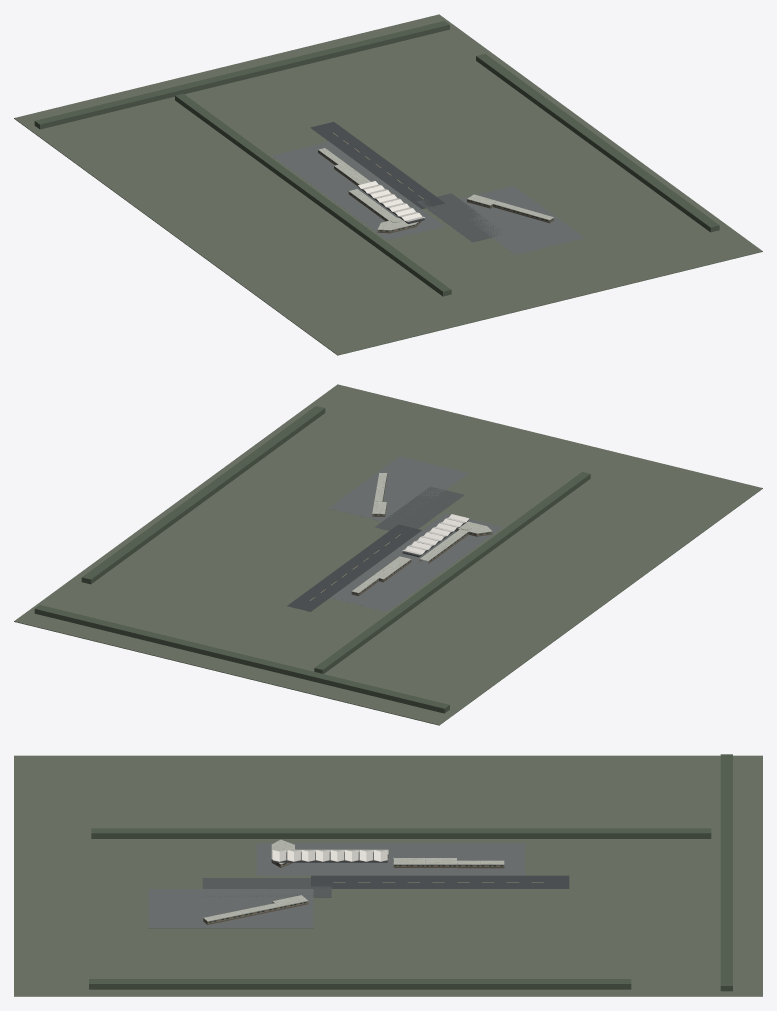
Rendered from dc9-memphis-legacy-departure.glb.
3 renders of one model, top to bottom at view 1: azimuth 30°, elevation 25°; view 2: azimuth 150°, elevation 25°; view 3: azimuth 270°, elevation 25°, orthographic. The views are drawn at different scales.
Parts seen in each view (by area): view 1: KMEM_FIELD, KMEM_TREELINE_NORTH, KMEM_TERMINAL_APRON, KMEM_RAMP, KMEM_TREELINE_WEST, KMEM_TREELINE_EAST, KMEM_RUNWAY_SURFACE, KMEM_TAXI_SURFACE, KMEM_TERMINAL_CANOPY, OBJ8_CONCOURSEB_RANGE_001, OBJ8_CONCOURSEB_2E_RANGE_001, OBJ8_CONCOURSEB_2_RANGE_001; view 2: KMEM_FIELD, KMEM_TREELINE_NORTH, KMEM_TERMINAL_APRON, KMEM_RAMP, KMEM_TREELINE_WEST, KMEM_TREELINE_EAST, KMEM_RUNWAY_SURFACE, KMEM_TAXI_SURFACE, KMEM_TERMINAL_CANOPY, OBJ8_CONCOURSEB_RANGE_001, OBJ8_CONCOURSEB_2_RANGE_001; view 3: KMEM_FIELD, KMEM_TREELINE_WEST, KMEM_TERMINAL_APRON, KMEM_TREELINE_EAST, KMEM_RAMP, KMEM_RUNWAY_SURFACE, KMEM_TREELINE_NORTH, KMEM_TAXI_SURFACE, KMEM_TERMINAL_CANOPY, OBJ8_CONCOURSEB_2_RANGE_001, OBJ8_CONCOURSEB_2E_RANGE_001, OBJ8_CONCOURSEB_RANGE_001.
Part boxes in pixels (x1,y1,x2,y2): KMEM_FIELD: (14, 14, 762, 355); KMEM_TREELINE_NORTH: (34, 21, 449, 129); KMEM_TERMINAL_APRON: (271, 141, 444, 240); KMEM_RAMP: (460, 186, 584, 254); KMEM_TREELINE_WEST: (175, 93, 451, 296); KMEM_TREELINE_EAST: (476, 53, 719, 232); KMEM_RUNWAY_SURFACE: (310, 121, 445, 209); KMEM_TAXI_SURFACE: (417, 193, 501, 242); KMEM_TERMINAL_CANOPY: (358, 181, 424, 221); OBJ8_CONCOURSEB_RANGE_001: (348, 189, 421, 233); OBJ8_CONCOURSEB_2E_RANGE_001: (467, 194, 553, 223); OBJ8_CONCOURSEB_2_RANGE_001: (318, 148, 370, 186); KMEM_FIELD: (14, 384, 762, 725); KMEM_TREELINE_NORTH: (34, 605, 449, 713); KMEM_TERMINAL_APRON: (330, 513, 502, 611); KMEM_RAMP: (328, 456, 468, 524); KMEM_TREELINE_WEST: (314, 472, 590, 673); KMEM_TREELINE_EAST: (81, 406, 325, 584); KMEM_RUNWAY_SURFACE: (287, 524, 421, 611); KMEM_TAXI_SURFACE: (375, 486, 464, 530); KMEM_TERMINAL_CANOPY: (402, 514, 469, 554); OBJ8_CONCOURSEB_RANGE_001: (419, 521, 492, 563); OBJ8_CONCOURSEB_2_RANGE_001: (351, 556, 411, 595); KMEM_FIELD: (14, 755, 762, 996); KMEM_TREELINE_WEST: (91, 828, 711, 838); KMEM_TERMINAL_APRON: (256, 843, 525, 875); KMEM_TREELINE_EAST: (89, 979, 631, 989); KMEM_RAMP: (148, 889, 313, 928); KMEM_RUNWAY_SURFACE: (311, 875, 569, 888); KMEM_TREELINE_NORTH: (720, 754, 732, 991); KMEM_TAXI_SURFACE: (202, 878, 331, 897); KMEM_TERMINAL_CANOPY: (272, 850, 387, 861); OBJ8_CONCOURSEB_2_RANGE_001: (393, 857, 504, 868); OBJ8_CONCOURSEB_2E_RANGE_001: (203, 895, 308, 924); OBJ8_CONCOURSEB_RANGE_001: (271, 839, 388, 867).
Size of the model in its own units: 1100 by 19.44 by 1450.
8 materials, 1 textured.
